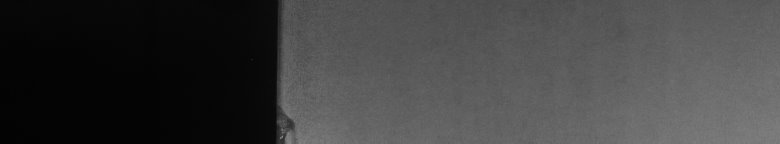hb: (288, 109, 301, 136)
